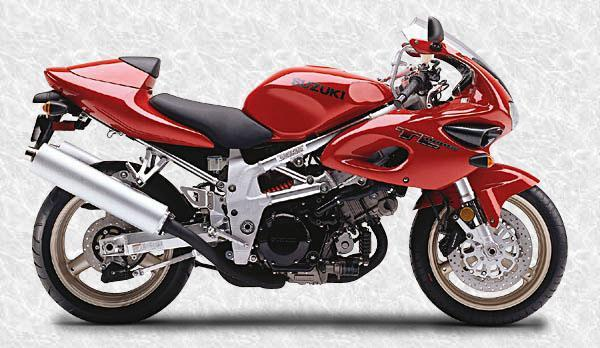motorcycle: (23, 18, 592, 339)
